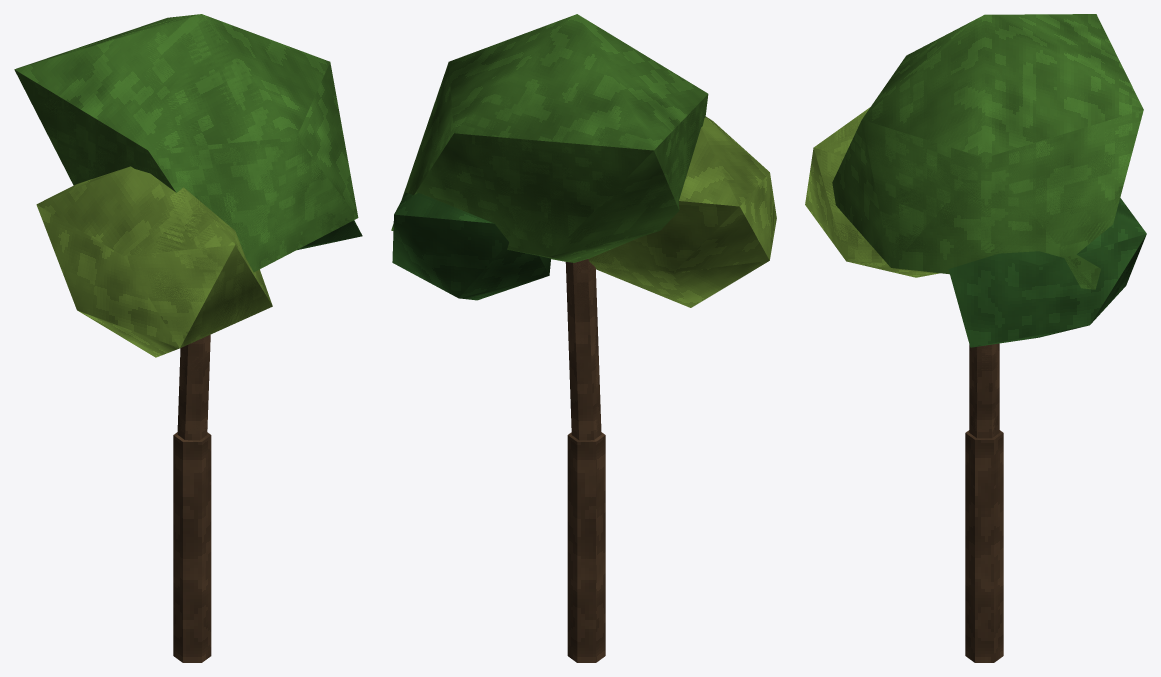
Rendered from arvoreta_folhosa.glb.
The picture shows the model from 3 angles, left to right: view 1: azimuth 30°, elevation 25°; view 2: azimuth 150°, elevation 25°; view 3: azimuth 270°, elevation 25°; orthographic projection.
Parts seen in each view (by area): view 1: Inteiro, Peca_01, Peca_03, Peca_02; view 2: Inteiro, Peca_01, Peca_03; view 3: Inteiro, Peca_01, Peca_03.
Boxes of the visible parts, bbox=[...] form: Inteiro: bbox=[14, 14, 359, 662]; Peca_01: bbox=[14, 14, 358, 440]; Peca_03: bbox=[130, 178, 272, 345]; Peca_02: bbox=[298, 220, 362, 249]; Inteiro: bbox=[392, 20, 776, 662]; Peca_01: bbox=[391, 14, 707, 440]; Peca_03: bbox=[589, 248, 687, 306]; Inteiro: bbox=[814, 15, 1146, 662]; Peca_01: bbox=[862, 14, 1143, 438]; Peca_03: bbox=[805, 107, 938, 276].
Size of the model in its own units: 1.36 by 2.61 by 1.25.
Materials: 1 (1 with a texture image).
